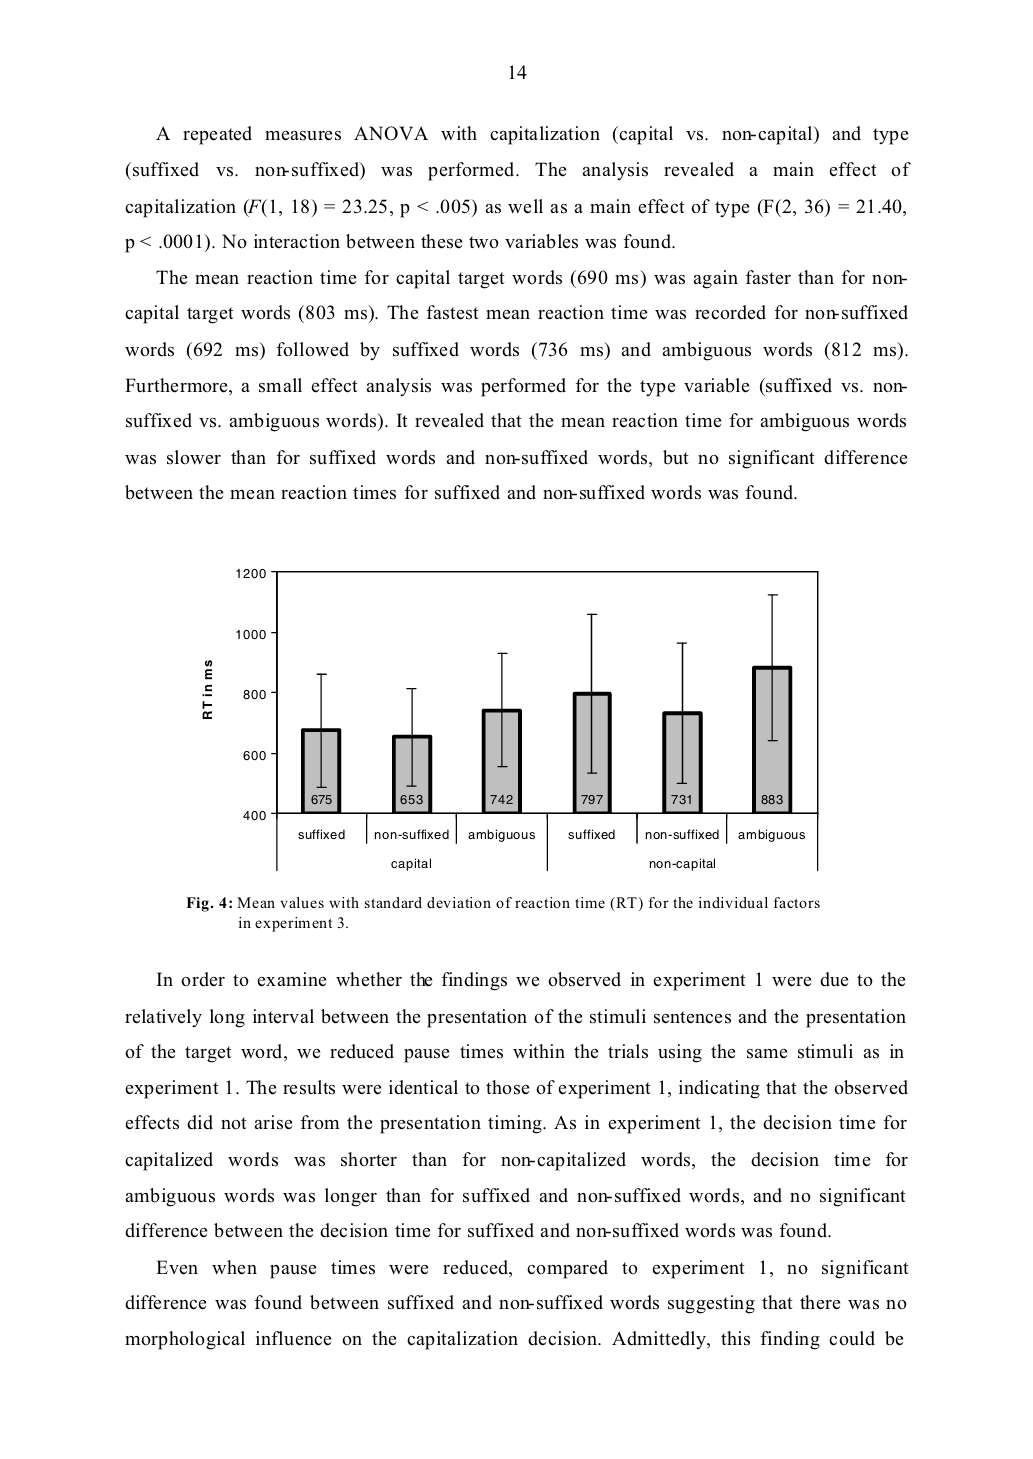figure: (202, 567, 818, 872)
